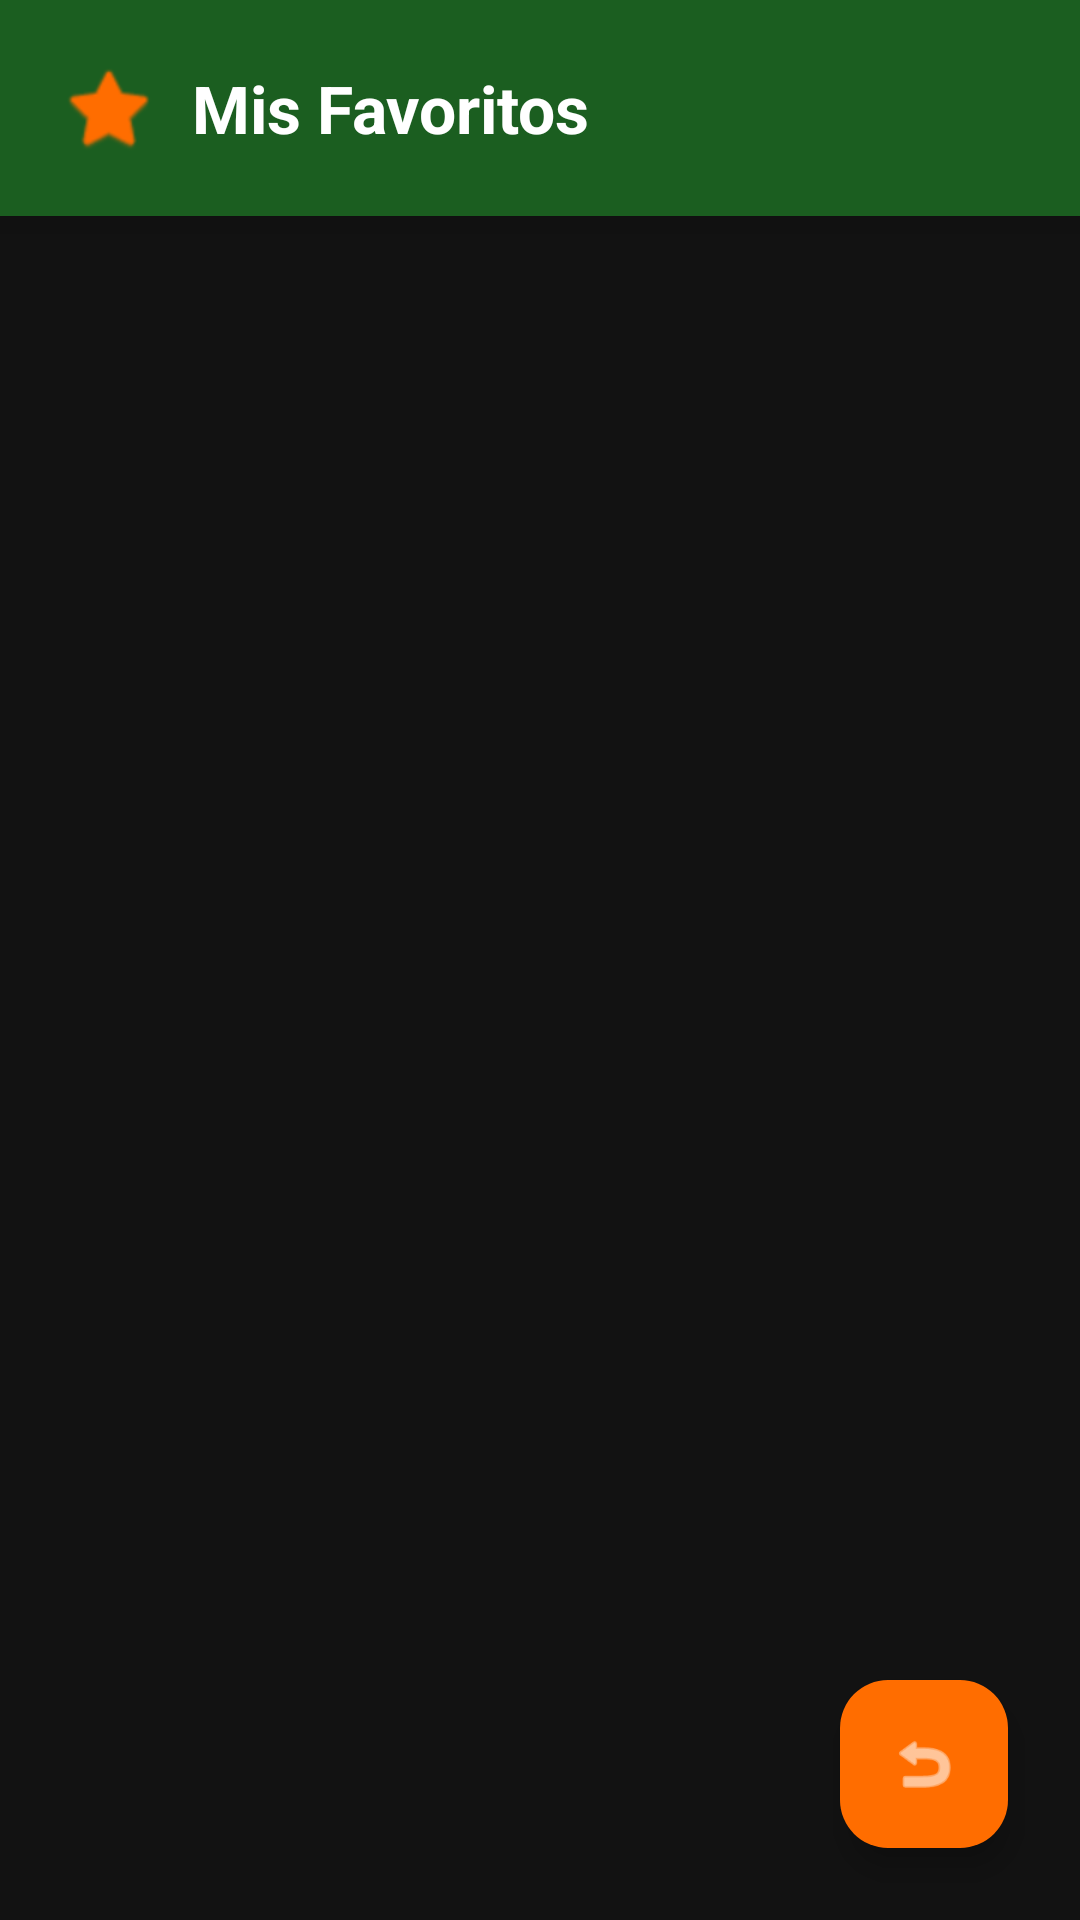

Where to tap for icons on this 1080x1920 app screen, as [x,y]:
revert: [924,1764]
star on: [109,109]
